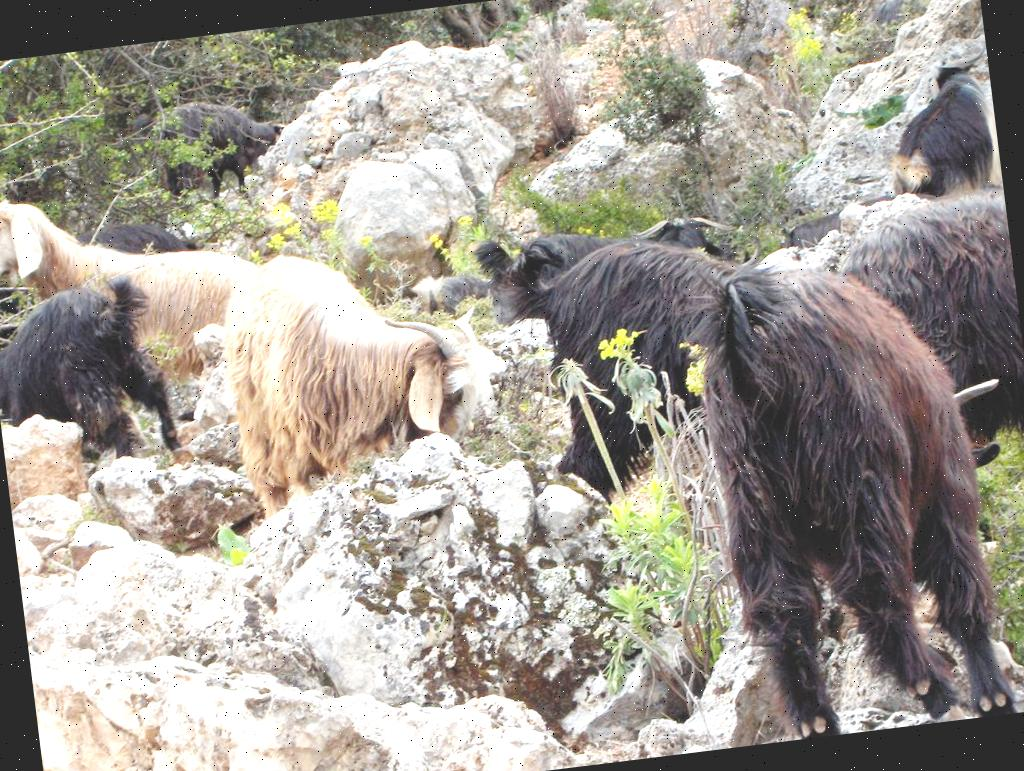Sheep: (674, 250, 1014, 747), (208, 230, 500, 521), (470, 204, 744, 483), (0, 170, 274, 406), (823, 190, 1024, 480), (0, 256, 192, 476)
